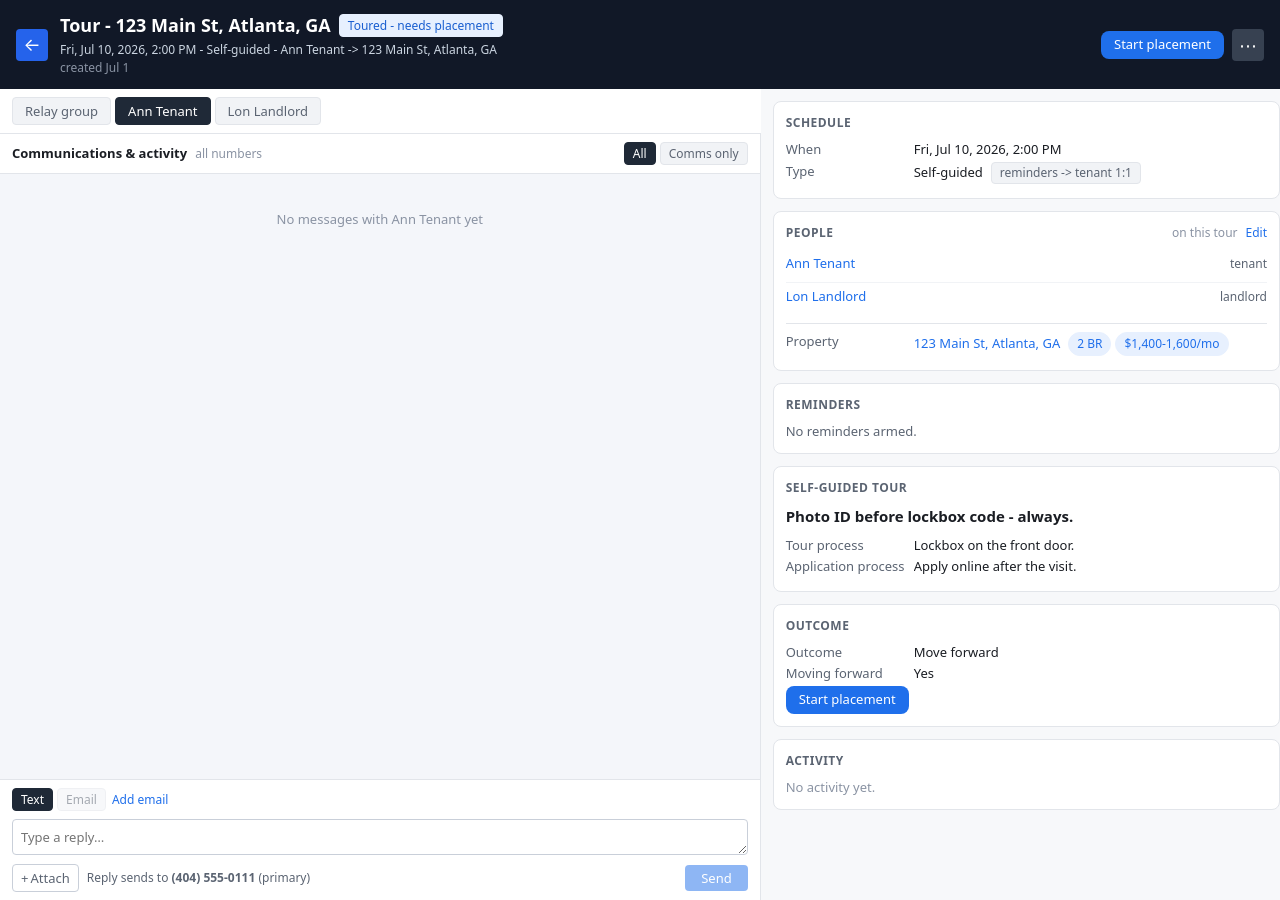
Test: TourDetail - primary CTA ladder › a convert failure surfaces role=alert and does NOT navigate
expect the link "←" is shown: met, box [16, 28, 48, 60]
Click the button "Start placement" in the row of "Toured - needs placement": (1162, 44) [1101, 30, 1224, 58]
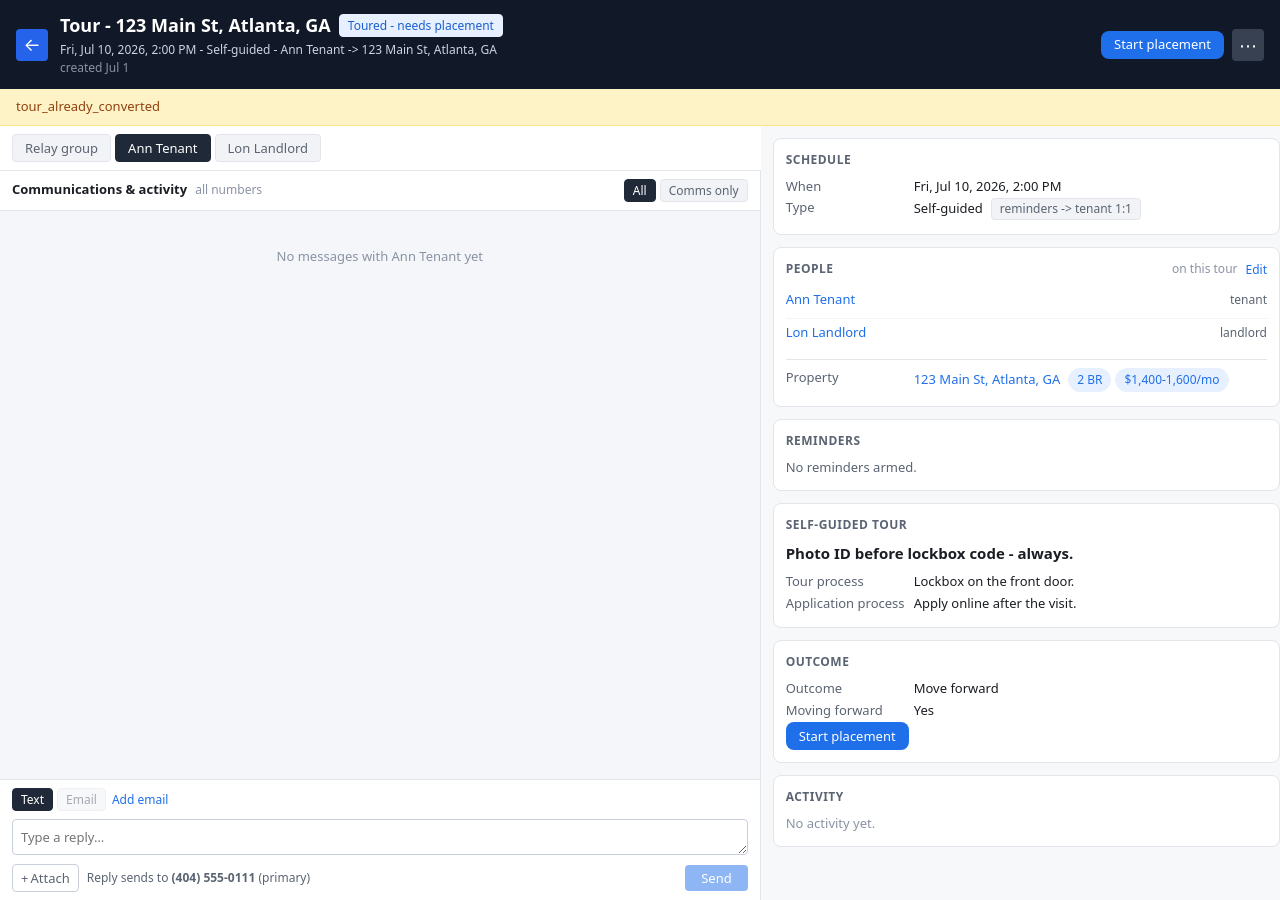
expect the message reads "tour_already_converted": met, box [16, 97, 160, 115]
